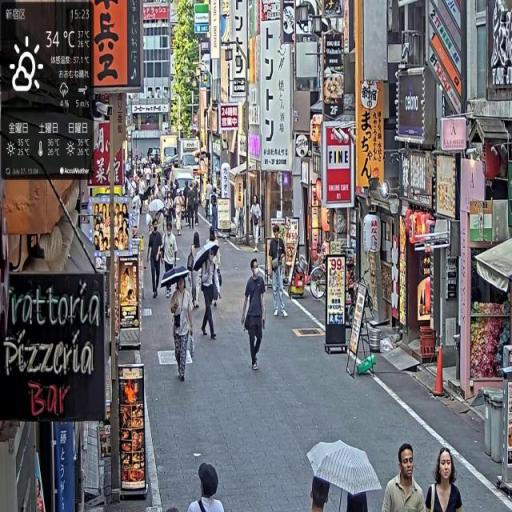person: (242, 256, 269, 379), (169, 271, 198, 384), (382, 442, 427, 511), (425, 446, 464, 512), (188, 464, 227, 512), (148, 219, 165, 301)
